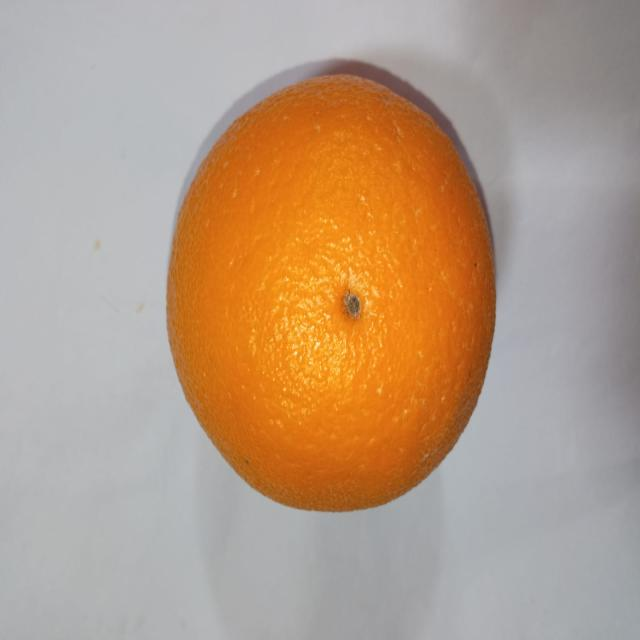fresh_orange: (168, 74, 494, 513)
